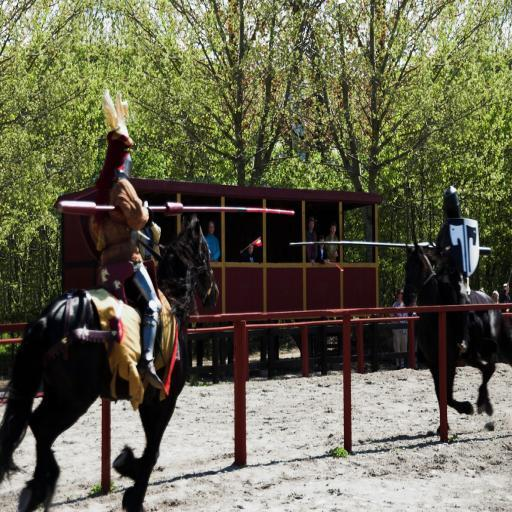horse: (0, 213, 220, 512), (399, 240, 512, 435)
